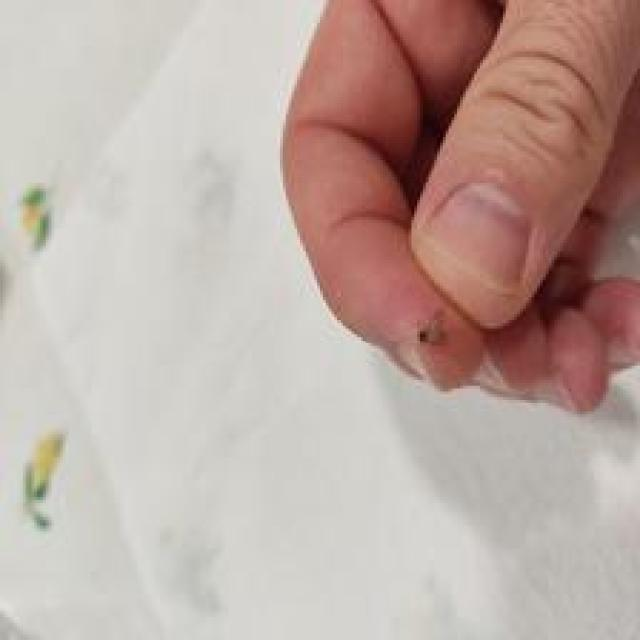Culex: (17, 180, 54, 251)
